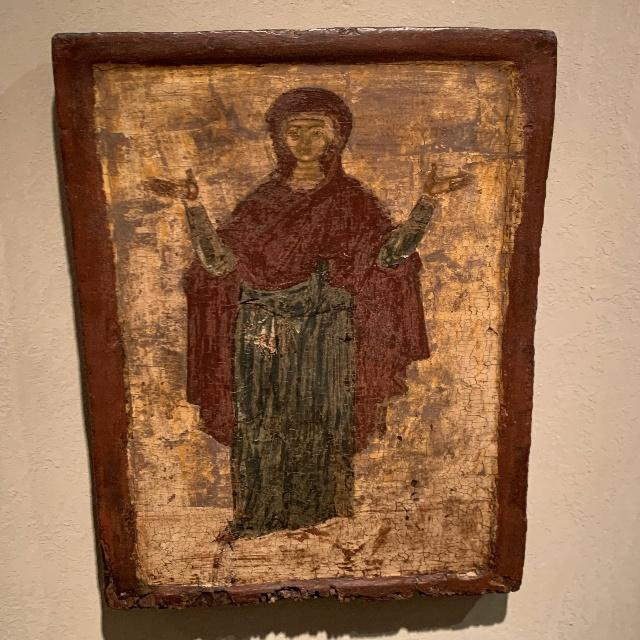mary_without_child: (132, 87, 480, 588)
